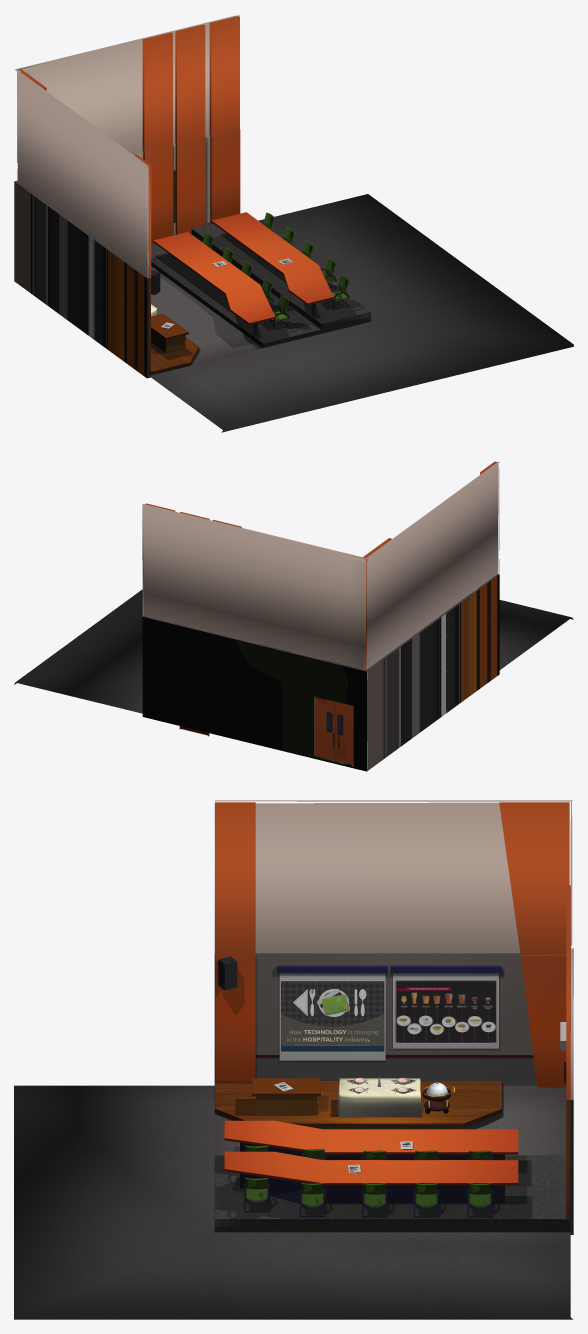
The model's file is Tx_Interior_Education_Hospitality.fbx.
3 renders of one model, top to bottom at view 1: azimuth 30°, elevation 25°; view 2: azimuth 150°, elevation 25°; view 3: azimuth 270°, elevation 25°, orthographic. The views are drawn at different scales.
Visible parts, largest first — view 1: whole3; view 2: whole3; view 3: whole3.
Boxes of the visible parts, box(x1,y1,x2,y2) form: whole3: box(14, 14, 573, 432); whole3: box(14, 461, 573, 771); whole3: box(14, 800, 573, 1319).
Bounding box in the file's own units: 82.41 × 48.53 × 83.76.
